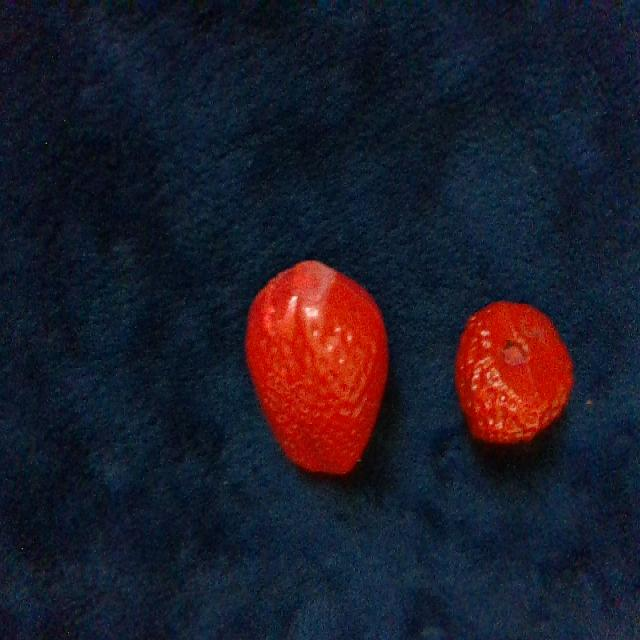chica_roja: (455, 301, 572, 441)
grande_roja: (246, 261, 386, 473)
